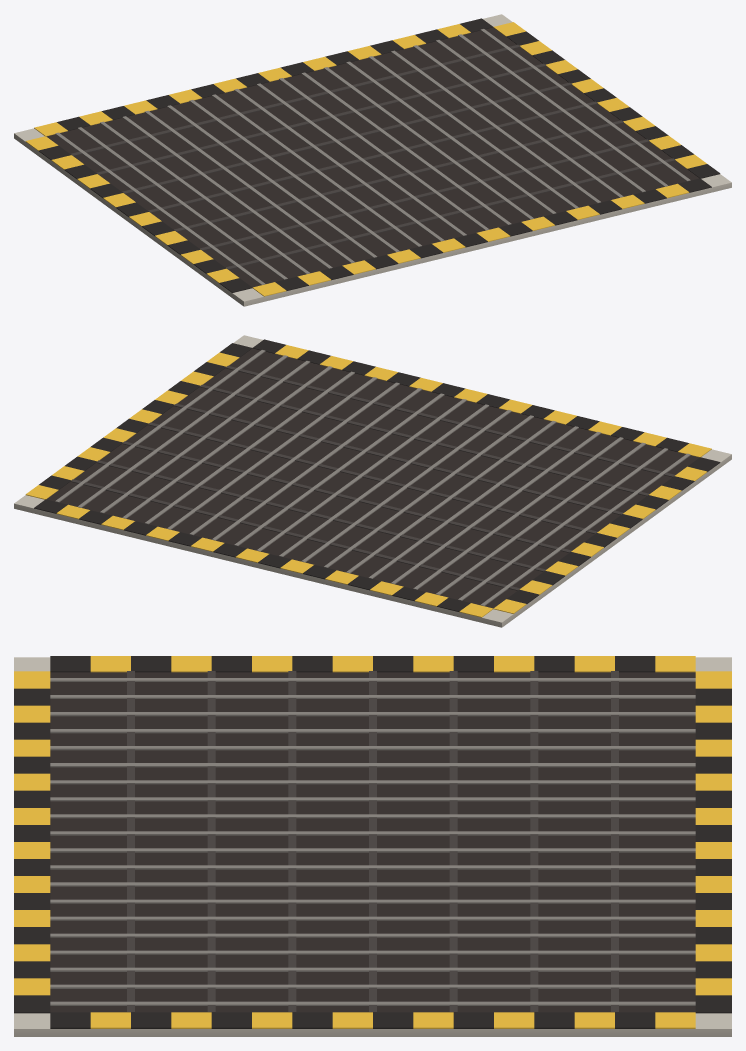
The model's file is grain_pit.glb.
The picture shows the model from 3 angles, top to bottom: view 1: azimuth 30°, elevation 25°; view 2: azimuth 150°, elevation 25°; view 3: azimuth 270°, elevation 25°; orthographic projection. The views are drawn at different scales.
Visible parts, largest first — view 1: grain_pit; view 2: grain_pit; view 3: grain_pit.
Boxes of the visible parts, left/top/right/bottom form: grain_pit: left=14, top=14, right=731, bottom=306; grain_pit: left=14, top=335, right=731, bottom=627; grain_pit: left=14, top=656, right=731, bottom=1036.
Bounding box in the file's own units: 10.9 × 0.135 × 8.9.
1 material, 1 textured.
